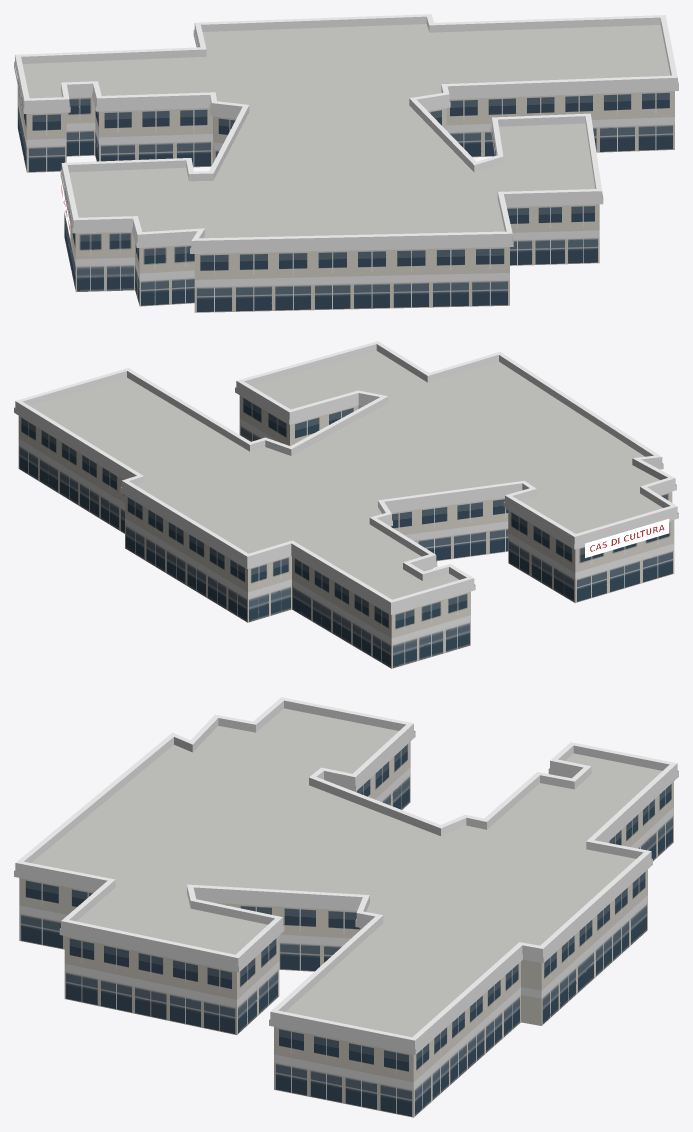
File: casdicultura.glb
3 views of the same model, one above another, from view 1: azimuth 30°, elevation 25°; view 2: azimuth 150°, elevation 25°; view 3: azimuth 270°, elevation 25° (orthographic). The views are drawn at different scales.
Visible parts, largest first — view 1: casdicultura_lod0; view 2: casdicultura_lod0; view 3: casdicultura_lod0.
Part boxes in pixels (x1,y1,x2,y2): casdicultura_lod0: (14, 14, 678, 312); casdicultura_lod0: (14, 341, 678, 668); casdicultura_lod0: (14, 697, 678, 1117).
Size of what is drawn, in the model's own units: 75.23 by 8 by 61.34.
Materials: 5 (3 with a texture image).
